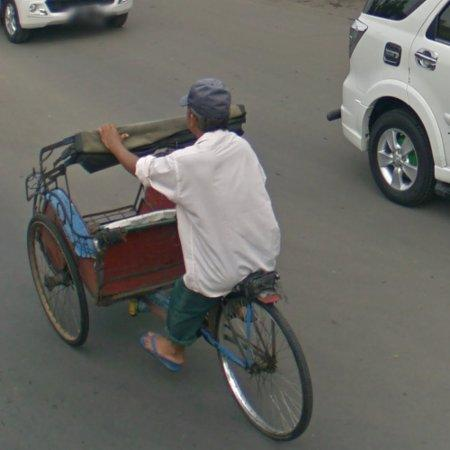bicycles: (218, 296, 313, 441)
